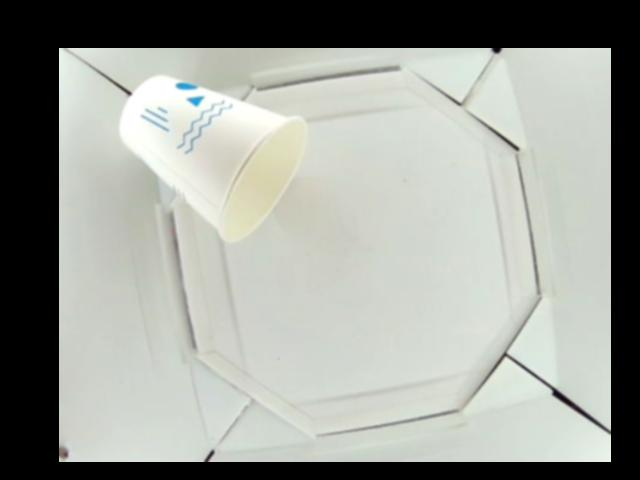Cup: (118, 74, 307, 243)
